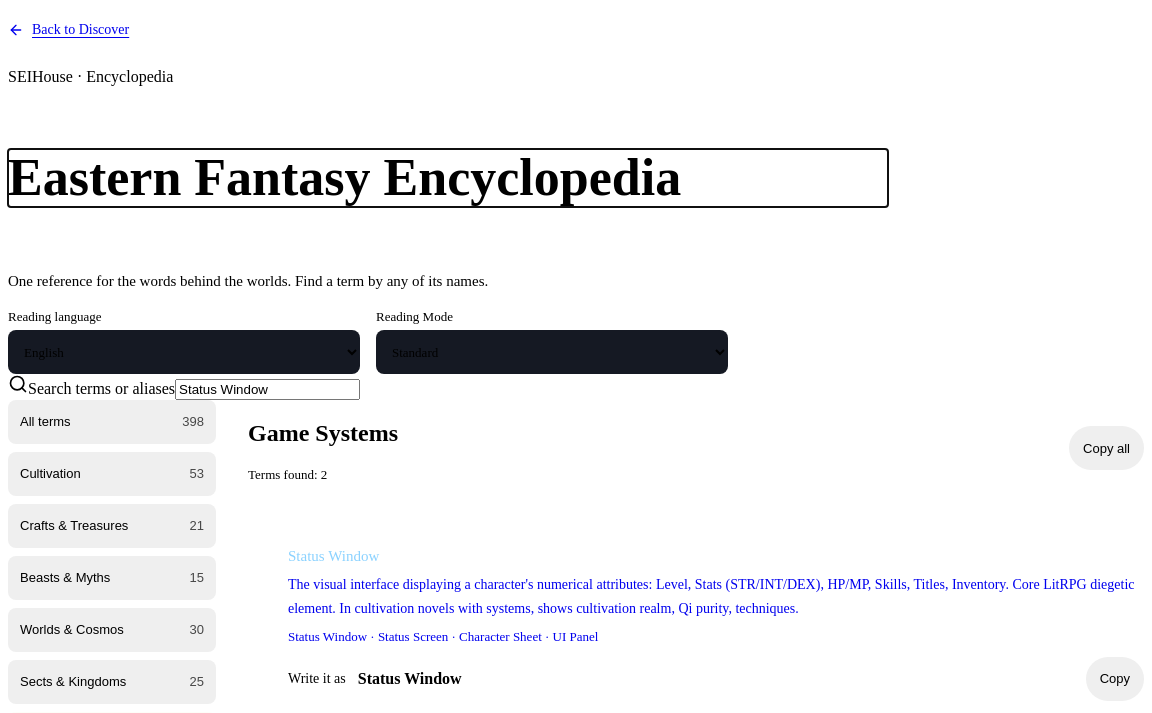
Test: copies a whole category from the directory
Expected: the element with class "encyclopedia-result-title" reads "Status Window", [288, 548, 379, 564]
Click the button with class "encyclopedia-copy" showing "Copy all" at coordinates (1106, 448), box [1069, 426, 1144, 470]
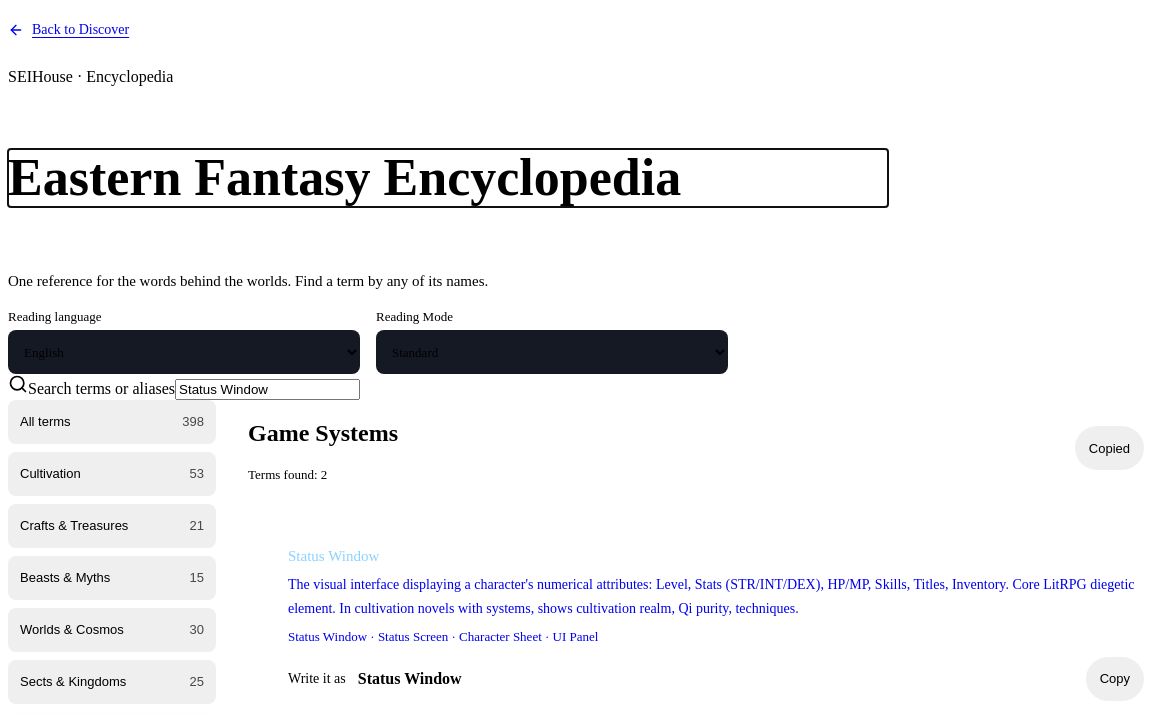
Expected: the button with class "encyclopedia-copy" reads "Copied", [1075, 426, 1144, 470]
